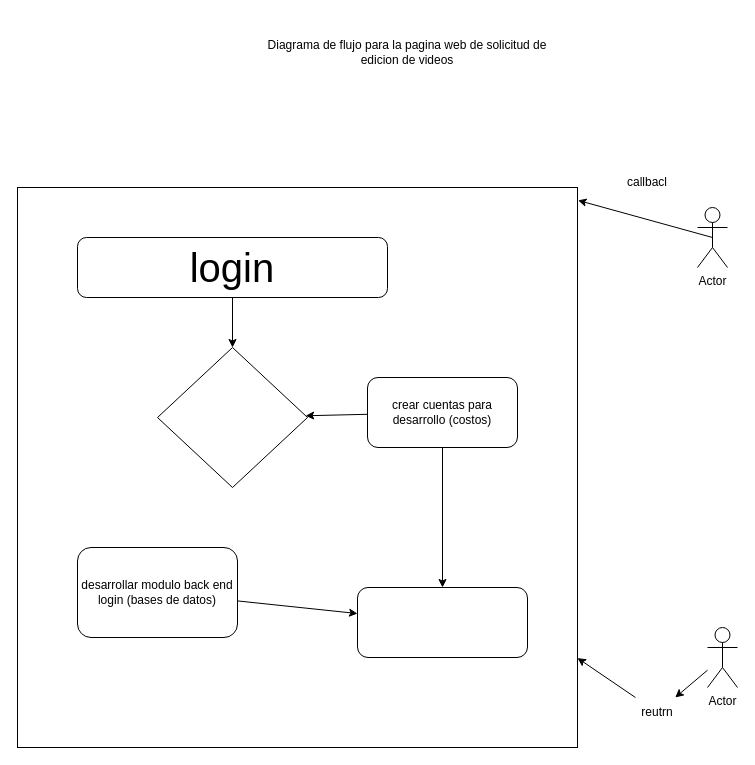
The diagram is 755 pixels wide and 765 high, and some of its shapes have lost their labels. Each missing label, with the centre of its shape:
"ingreso correcto" goes at point 442,622.
"logueo con api" goes at point 232,417.
